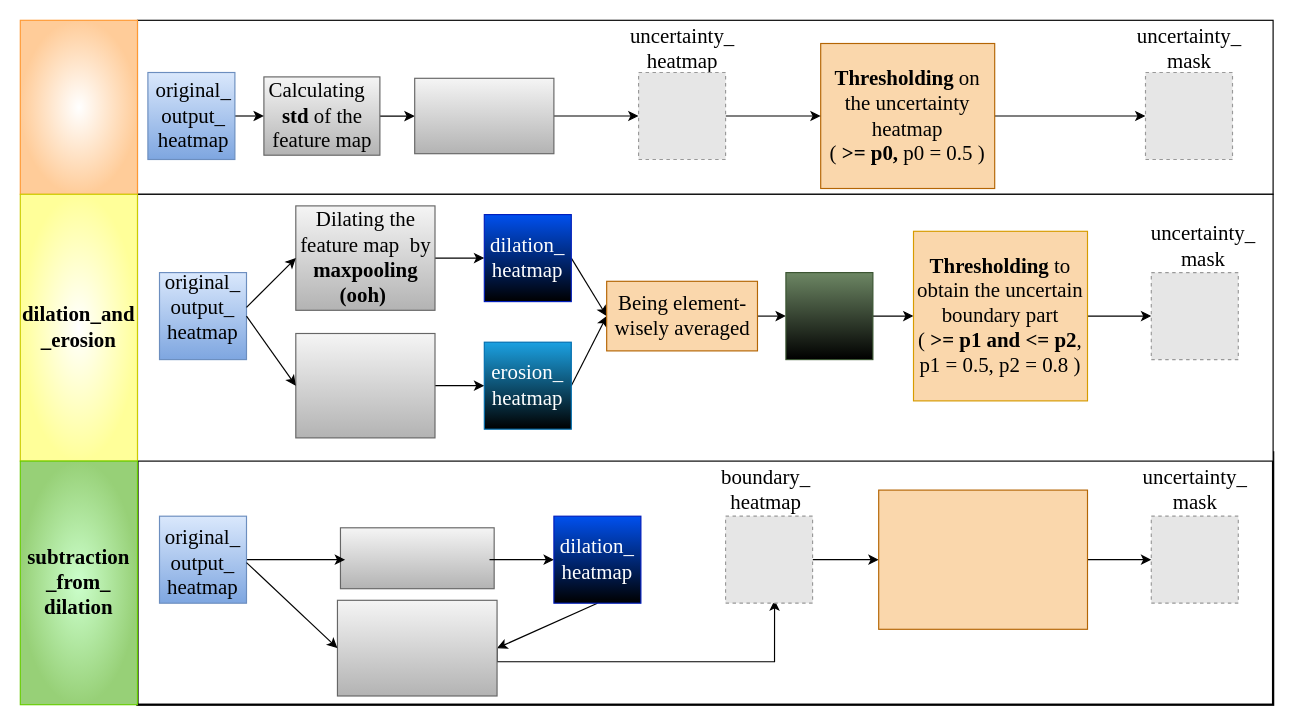
The diagram is 1295 pixels wide and 726 high, and some of its shapes have lost their labels. Grey dashed boxes stand in for pictures. Here are the shapes that lost their labels. From the top down, the centre of each, then its label:
At pixel 78 106: "uncertainty _formula".
At pixel 484 115: "Calculating the formula on every pixel".
At pixel 829 315: "tenary_pro bability_ heatmap".
At pixel 365 385: "Eroding the feature map by maxpooling (-ooh)".
At pixel 416 558: "Maxpooling the feature map".
At pixel 983 559: "Thresholding on the uncertainty heatmap ( >= p3 , p3 = 0.5 )".
At pixel 416 647: "Being element-wisely subtracted from dilation_heatmap".
